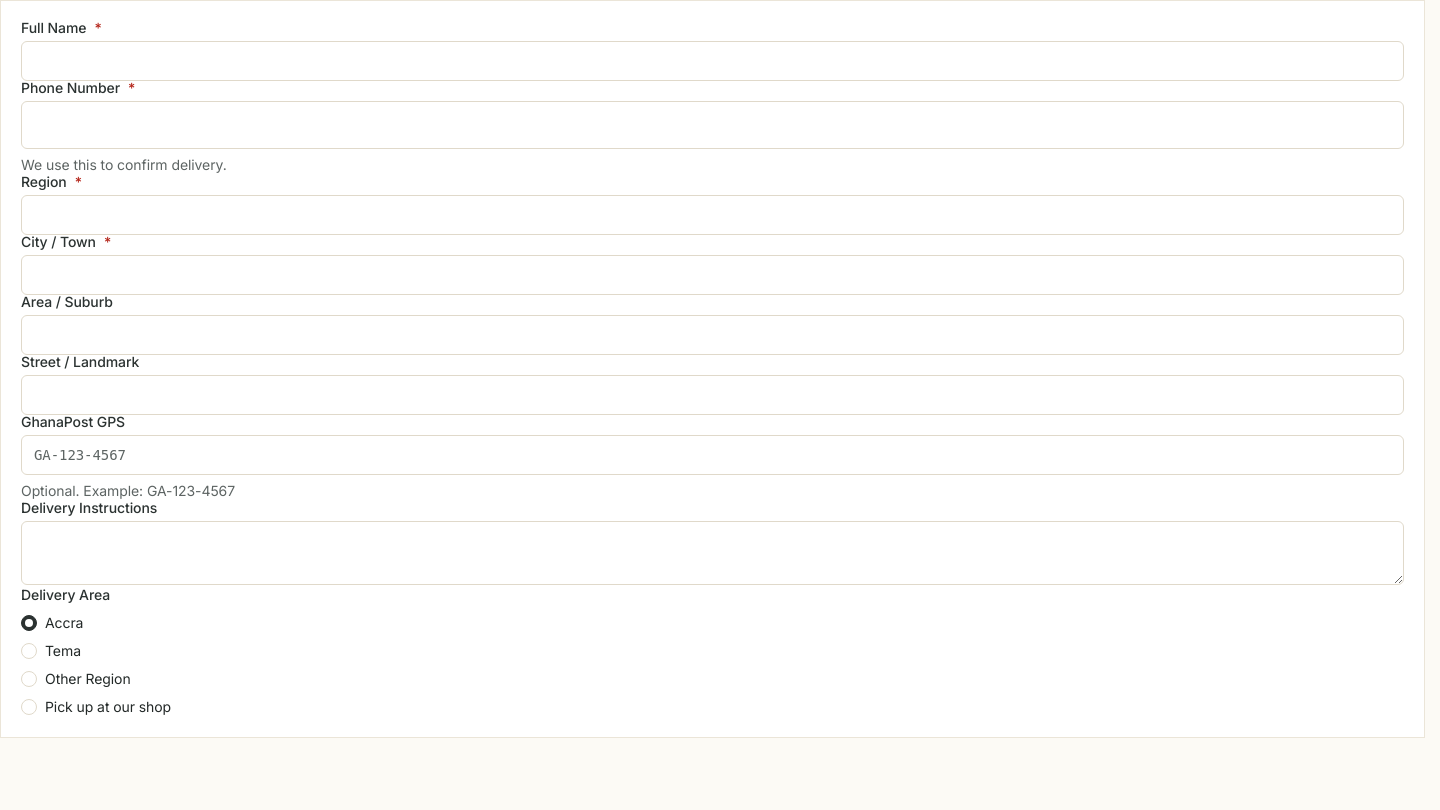
GhanaAddressForm › offers shop pickup without requiring delivery address fields
Click the radio button named "Pick up at our shop" next to "Pick up at our shop" at [29, 707], box left=21, top=699, right=37, bottom=715
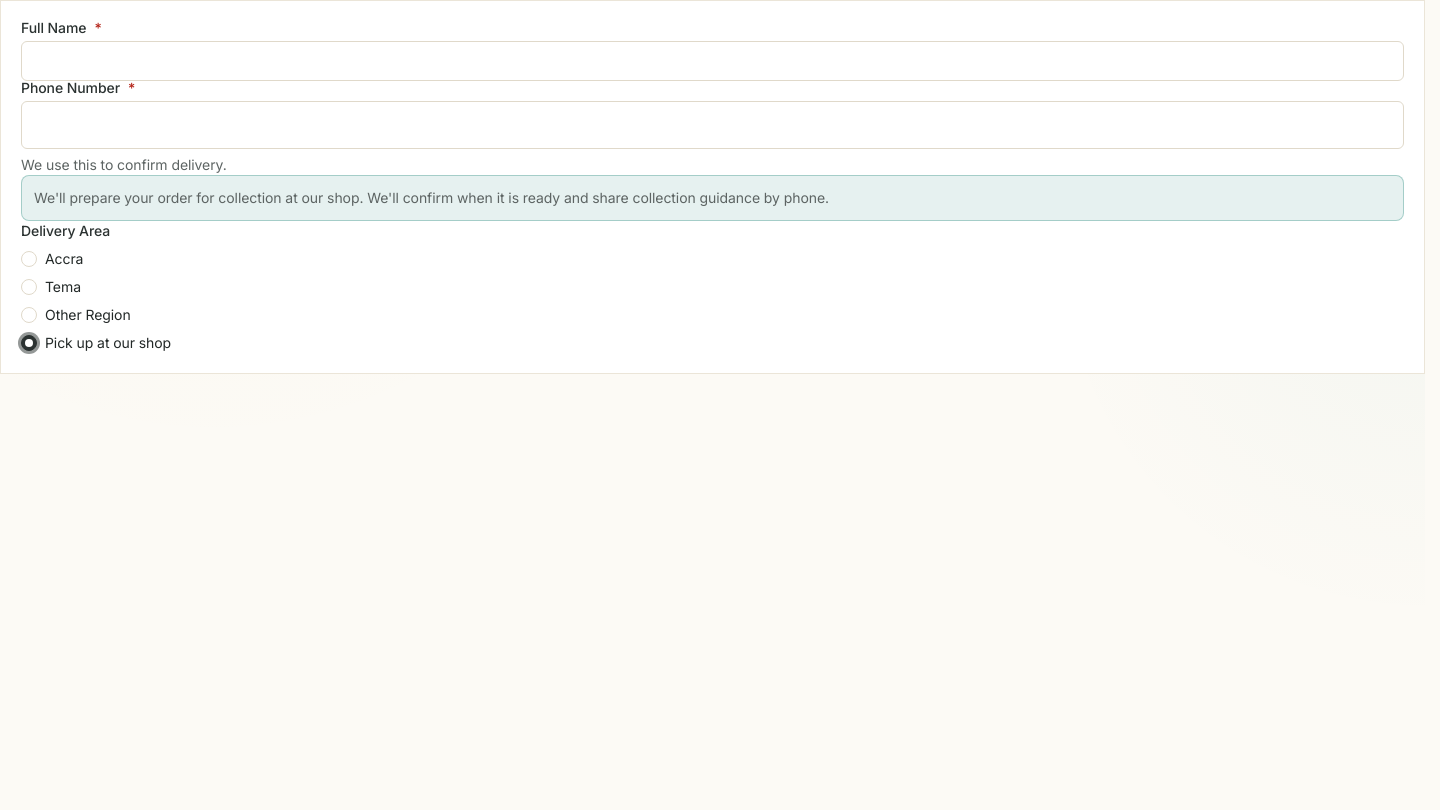
expect the text "prepare your order for collection" is shown: met, box left=34, top=189, right=829, bottom=206
expect the label labelled "City / Town" is gone: met
